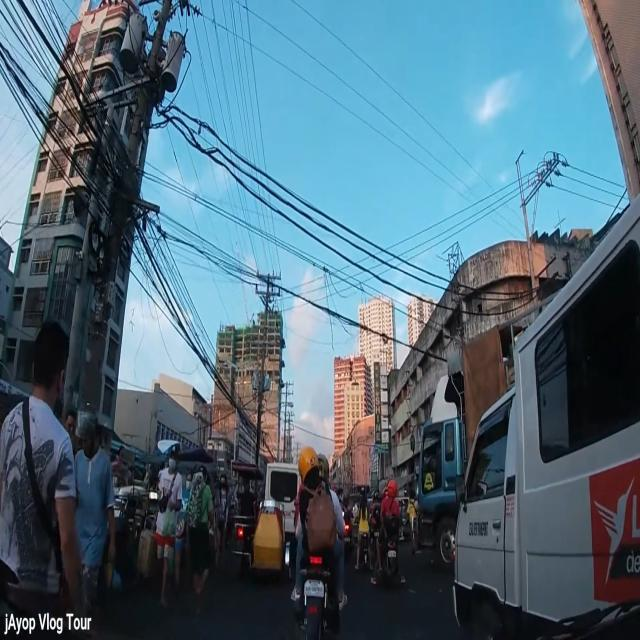car: (262, 461, 300, 556)
motorcycle: (292, 450, 341, 630), (375, 481, 402, 586), (354, 488, 371, 570), (342, 492, 354, 566)
tricycle: (115, 452, 168, 590), (232, 462, 292, 580)
truck: (454, 192, 640, 640), (419, 288, 572, 566)
